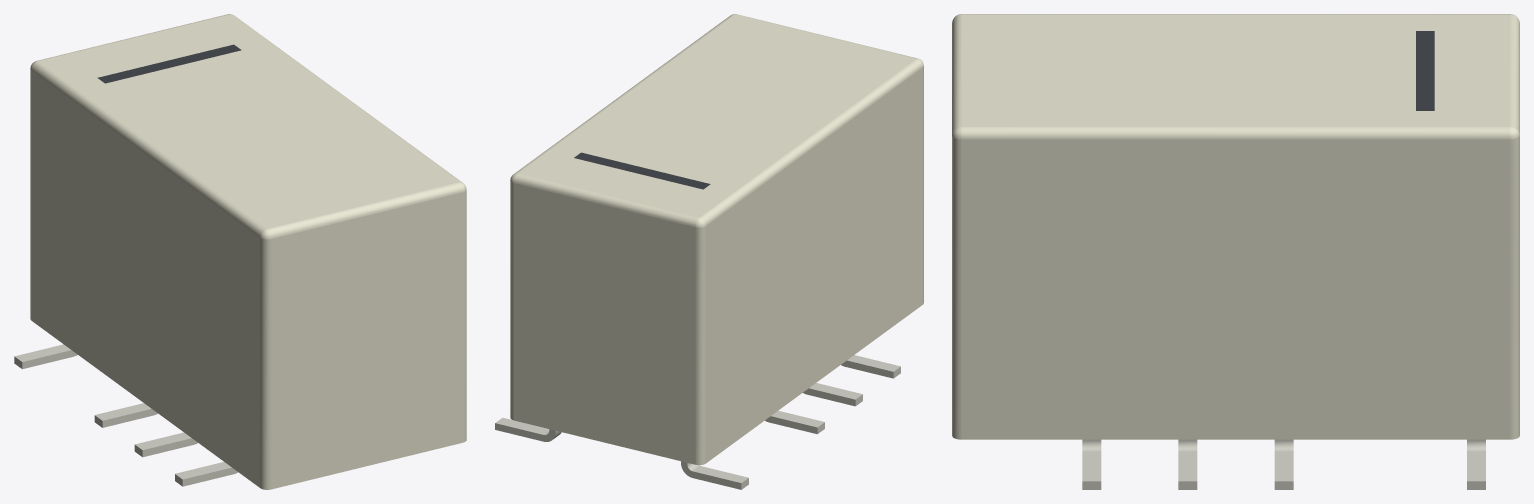
File: kc-relay_dpdt_kemet_ee2_nu.glb
The picture shows the model from 3 angles, left to right: view 1: azimuth 30°, elevation 25°; view 2: azimuth 150°, elevation 25°; view 3: azimuth 270°, elevation 25°; orthographic projection. The views are drawn at different scales.
Visible parts, largest first — view 1: 0.75_0.75_0.6666666666666666_0, 0.6666666666666666_0.6666666666666666_0.5833333333333334_0.8, 0.08333333333333333_0.08333333333333333_0.08333333333333333_; view 2: 0.75_0.75_0.6666666666666666_0, 0.6666666666666666_0.6666666666666666_0.5833333333333334_0.8, 0.08333333333333333_0.08333333333333333_0.08333333333333333_; view 3: 0.75_0.75_0.6666666666666666_0, 0.6666666666666666_0.6666666666666666_0.5833333333333334_0.8, 0.08333333333333333_0.08333333333333333_0.08333333333333333_.
Boxes of the visible parts, x1,y1,x2,y2 form: 0.75_0.75_0.6666666666666666_0: [30, 14, 466, 489]; 0.6666666666666666_0.6666666666666666_0.5833333333333334_0.8: [14, 344, 237, 486]; 0.08333333333333333_0.08333333333333333_0.08333333333333333_: [97, 44, 241, 83]; 0.75_0.75_0.6666666666666666_0: [510, 14, 923, 465]; 0.6666666666666666_0.6666666666666666_0.5833333333333334_0.8: [495, 355, 900, 489]; 0.08333333333333333_0.08333333333333333_0.08333333333333333_: [574, 152, 710, 189]; 0.75_0.75_0.6666666666666666_0: [952, 14, 1519, 439]; 0.6666666666666666_0.6666666666666666_0.5833333333333334_0.8: [1082, 439, 1485, 489]; 0.08333333333333333_0.08333333333333333_0.08333333333333333_: [1416, 31, 1434, 110].
Bounding box in the file's own units: 0.9501 × 1 × 1.5.
